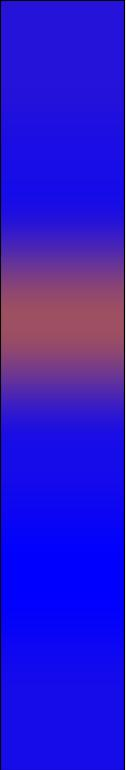critical: (10, 289, 110, 354)
safe: (11, 368, 115, 759), (6, 5, 115, 274)
